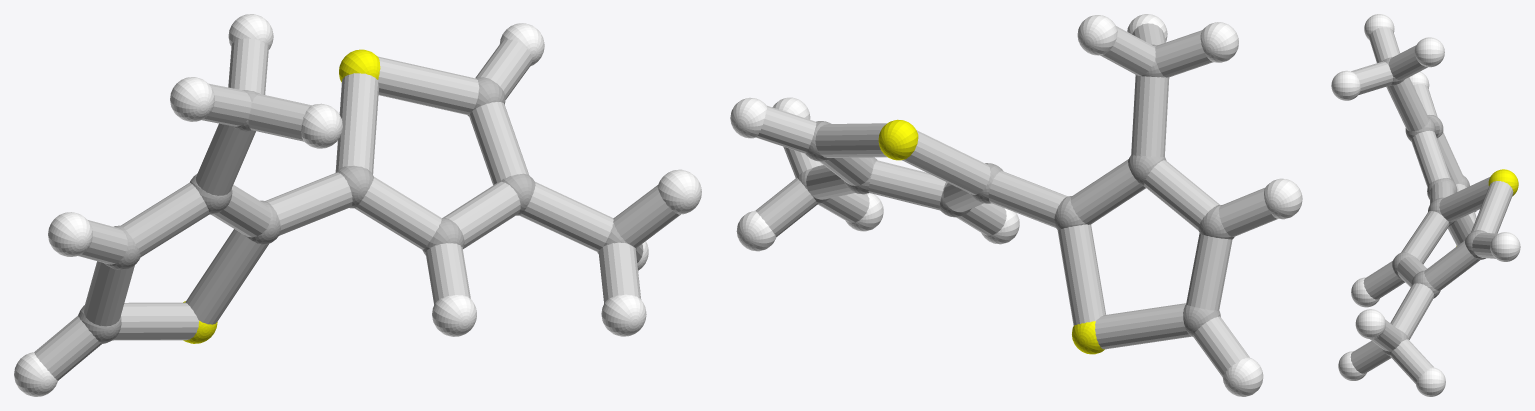
The model's file is Methylthiophene_Phi_10_Theta_290_Methylthiophene.glb.
3 renders of one model, left to right at view 1: azimuth 30°, elevation 25°; view 2: azimuth 150°, elevation 25°; view 3: azimuth 270°, elevation 25°, orthographic. The views are drawn at different scales.
Parts seen in each view (by area): view 1: grp7965, grp3621, grp1, grp7241; view 2: grp7965, grp3621, grp1, grp7241; view 3: grp7965, grp3621, grp1, grp7241.
Part boxes in pixels (left/top/right/bottom): grp7965: left=34, top=38, right=680, bottom=380; grp3621: left=14, top=14, right=701, bottom=396; grp1: left=78, top=77, right=636, bottom=343; grp7241: left=183, top=49, right=380, bottom=343; grp7965: left=755, top=23, right=1277, bottom=376; grp3621: left=730, top=14, right=1302, bottom=396; grp1: left=797, top=44, right=1234, bottom=336; grp7241: left=878, top=119, right=1104, bottom=354; grp7965: left=1350, top=27, right=1513, bottom=383; grp3621: left=1331, top=14, right=1520, bottom=396; grp1: left=1382, top=57, right=1487, bottom=356; grp7241: left=1456, top=169, right=1518, bottom=246.
Size of the model in its own units: 9.45 by 5.19 by 3.75.
